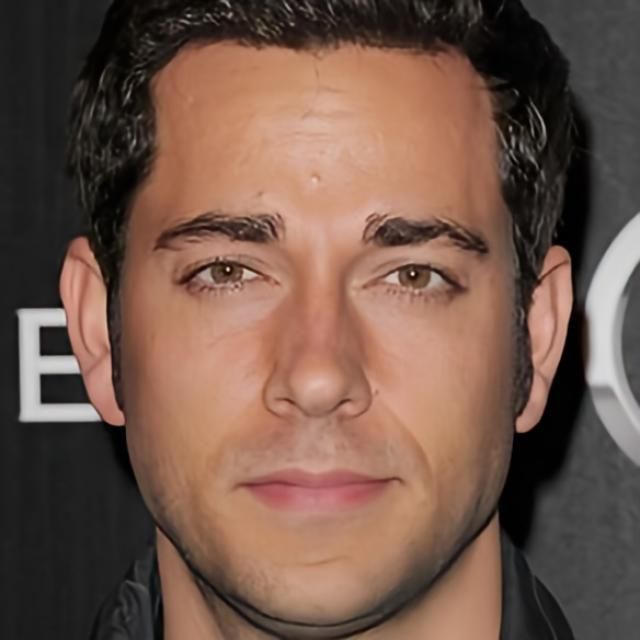content: (118, 24, 517, 628)
